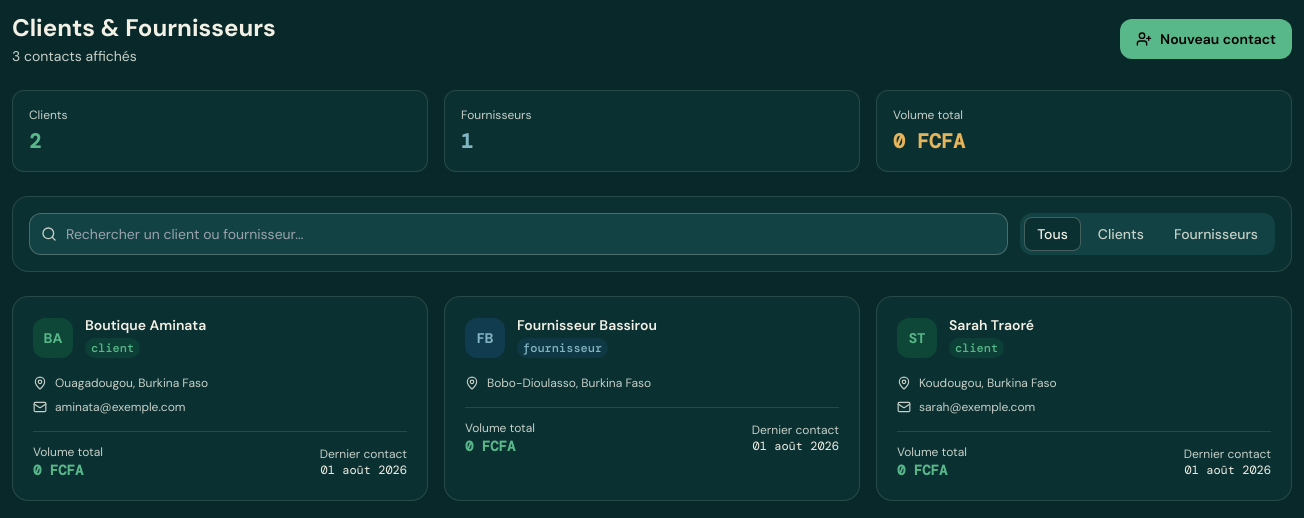
Test case: ClientsPage — recherche › combine la recherche texte avec le filtre de type
Expected: the text "Boutique Aminata" is shown, x1=85 y1=317 x2=206 y2=334
Click the button "Fournisseurs" at (1216, 234), box x1=1161 y1=217 x2=1271 y2=251
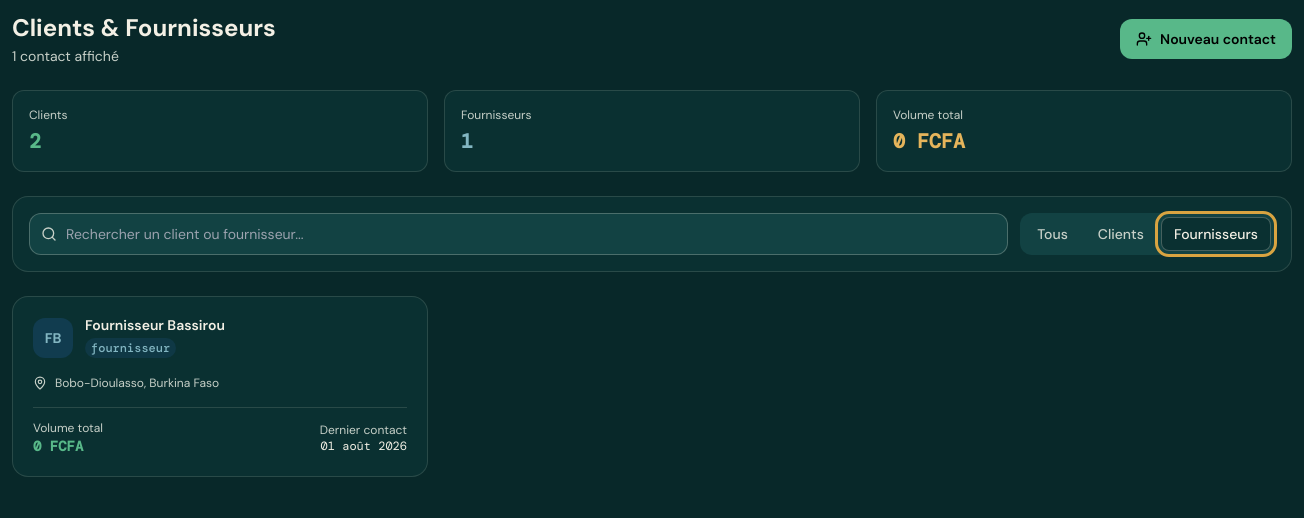
Expected: the text "Fournisseur Bassirou" is shown, x1=85 y1=317 x2=225 y2=334
Expected: the text "Boutique Aminata" is gone
Expected: the text "Sarah Traoré" is gone
